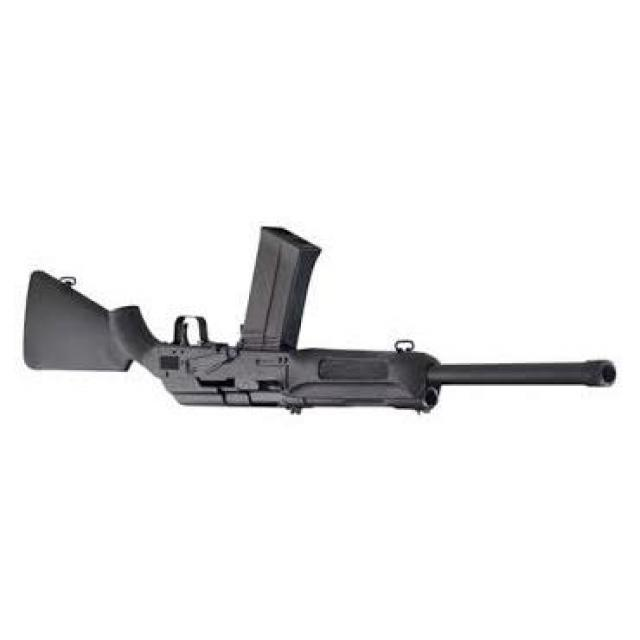weapon: (22, 226, 620, 418)
